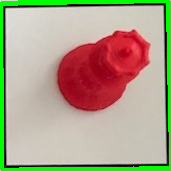Red Queen: (56, 26, 154, 113)
